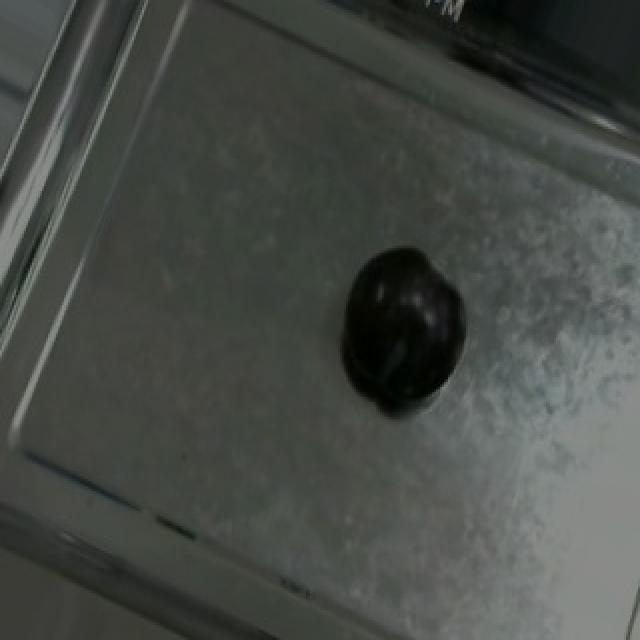Fruit: (326, 226, 474, 417)
